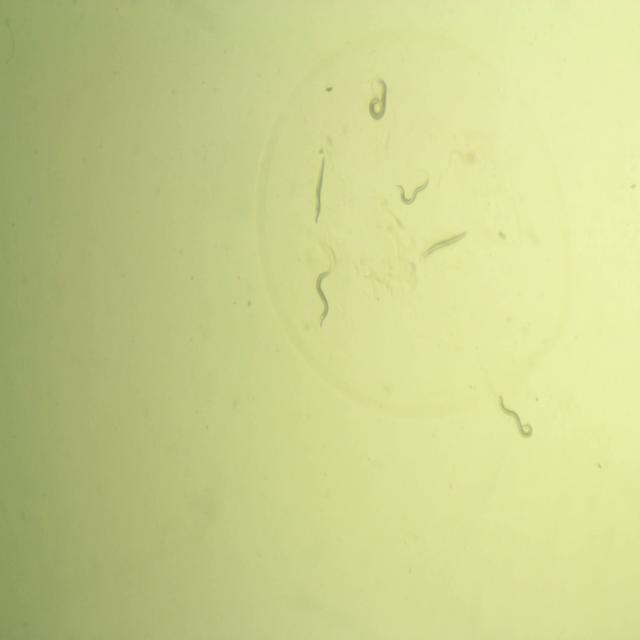worm: (416, 222, 471, 264), (497, 392, 538, 441), (308, 152, 332, 228), (312, 266, 334, 331), (394, 172, 430, 210), (367, 74, 390, 126)
